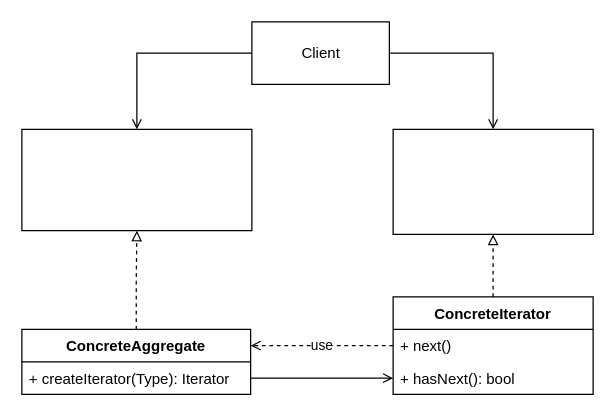
Some shapes in this 615 by 420 pixel diagram are drawn without their labels. The shapes that lost their labels are listed below. From the top down, each one's centre as x and y in pixels, then its label:
the point at 136,179: <<Interface>> Aggregate + createIterator(Type): Iterator
the point at 492,181: <<Interface>> Iterator + next() + hasNext(): bool
